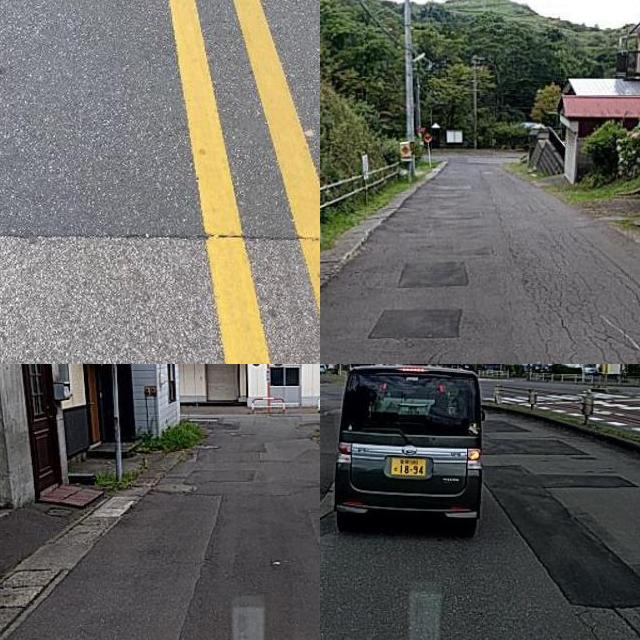Sambungan: (0, 0, 320, 256), (481, 466, 640, 607), (179, 487, 320, 640), (366, 309, 463, 338), (403, 260, 473, 285), (534, 473, 638, 488)
